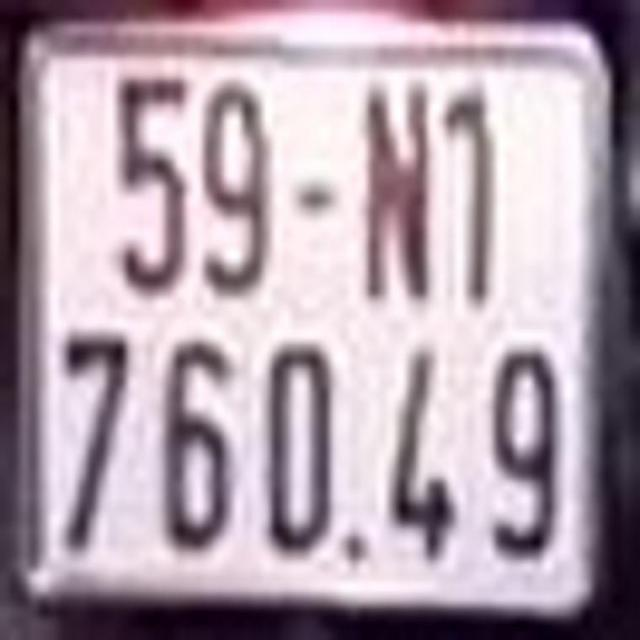0: (266, 348, 330, 548)
1: (444, 87, 496, 296)
4: (394, 347, 452, 562)
5: (119, 78, 188, 284)
6: (166, 337, 230, 546)
7: (61, 334, 134, 554)
9: (480, 346, 562, 554), (199, 84, 268, 294)
N: (362, 88, 434, 305)
